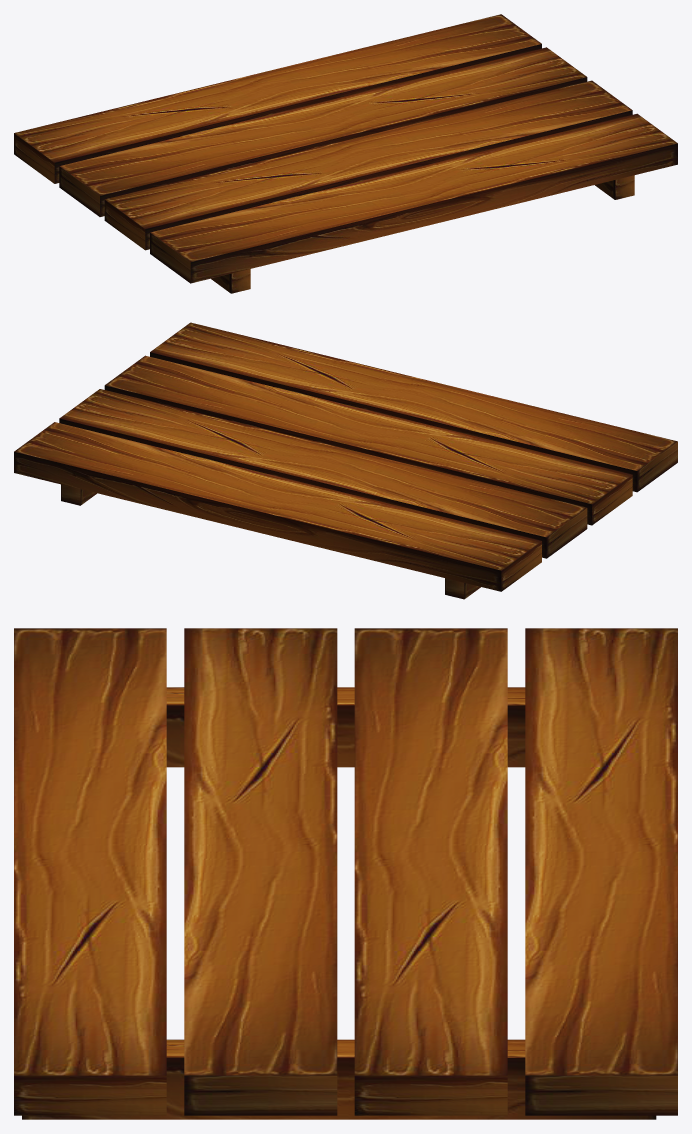
The model's file is Wooden_Bridge .fbx.
3 views of the same model, one above another, from view 1: azimuth 30°, elevation 25°; view 2: azimuth 150°, elevation 25°; view 3: azimuth 270°, elevation 25° (orthographic). The views are drawn at different scales.
Parts seen in each view (by area): view 1: Cube; view 2: Cube; view 3: Cube.
Boxes of the visible parts, bbox=[...] form: Cube: bbox=[14, 14, 677, 293]; Cube: bbox=[14, 322, 677, 599]; Cube: bbox=[14, 628, 677, 1119].
Size of the model in its own units: 384 by 32.72 by 241.
